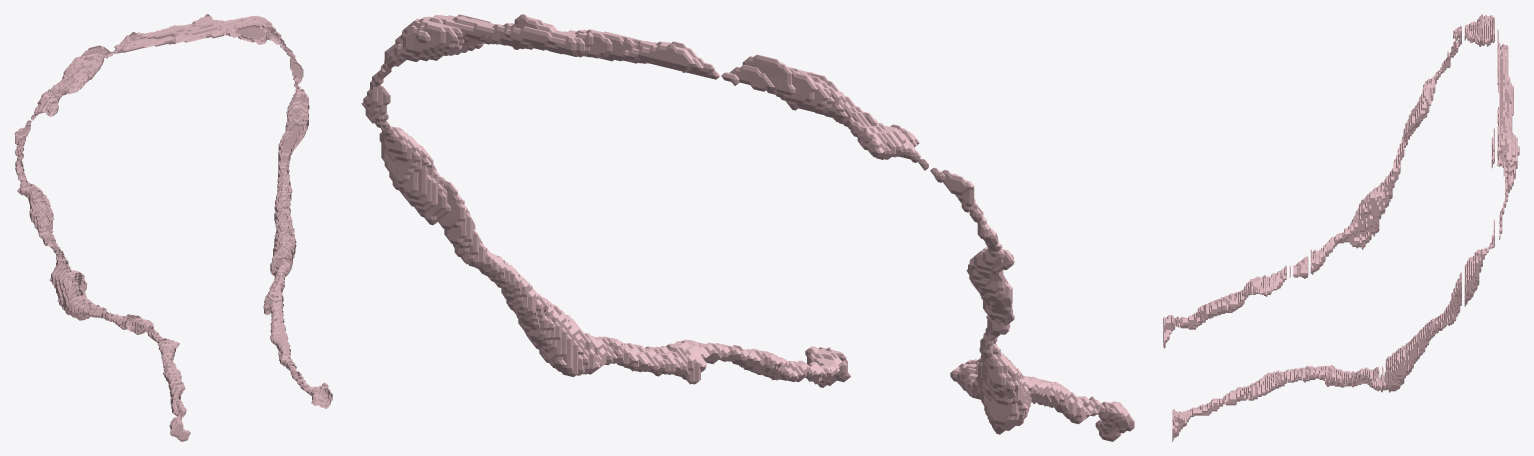
File: SVV_DVA.gltf
3 renders of one model, left to right at view 1: azimuth 30°, elevation 25°; view 2: azimuth 150°, elevation 25°; view 3: azimuth 270°, elevation 25°, orthographic. The views are drawn at different scales.
Parts seen in each view (by area): view 1: DVA; view 2: DVA; view 3: DVA.
Boxes of the visible parts, left/top/right/bottom form: DVA: left=14, top=14, right=332, bottom=441; DVA: left=361, top=14, right=1134, bottom=441; DVA: left=1163, top=14, right=1519, bottom=441.
Size of the model in its own units: 88621 by 79400 by 71217.
